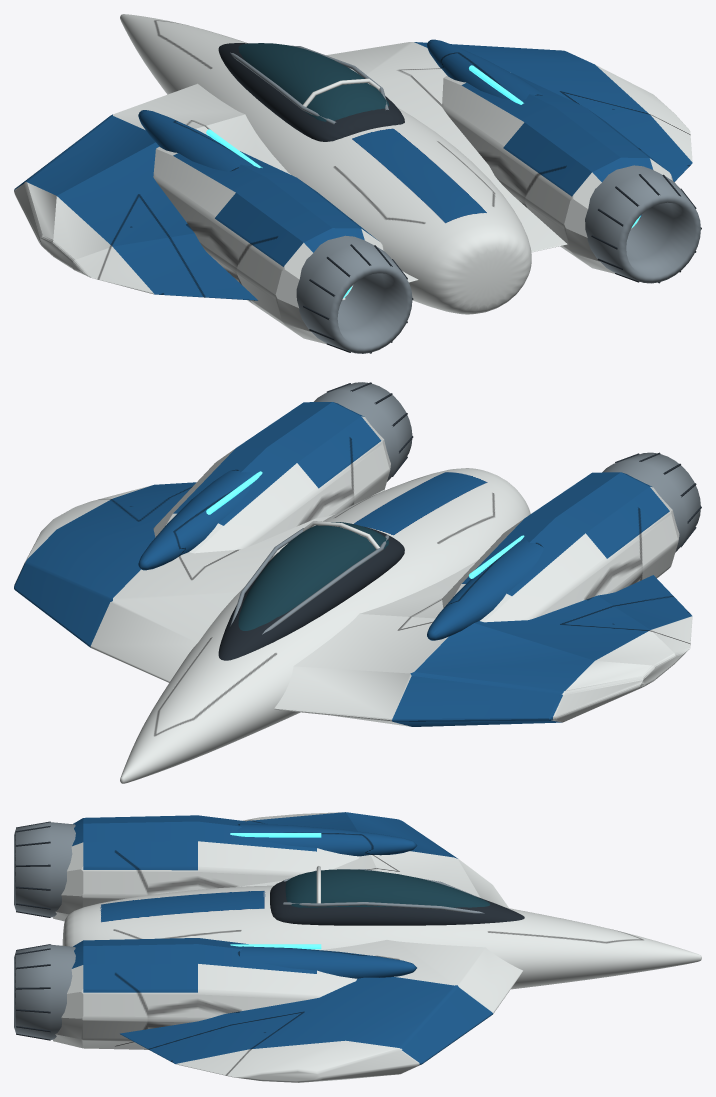
The picture shows the model from 3 angles, top to bottom: view 1: azimuth 30°, elevation 25°; view 2: azimuth 150°, elevation 25°; view 3: azimuth 270°, elevation 25°; orthographic projection. The views are drawn at different scales.
Parts seen in each view (by area): view 1: AuricCoreV2; view 2: AuricCoreV2; view 3: AuricCoreV2.
Boxes of the visible parts, <box> form: AuricCoreV2: <box>14,14,701,353</box>; AuricCoreV2: <box>14,382,701,783</box>; AuricCoreV2: <box>14,812,701,1082</box>.
Bounding box in the file's own units: 2.8 × 0.6313 × 3.18.
6 materials, 2 textured.
